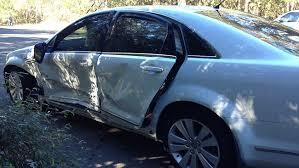Door: (40, 51, 103, 108), (100, 60, 136, 110)
